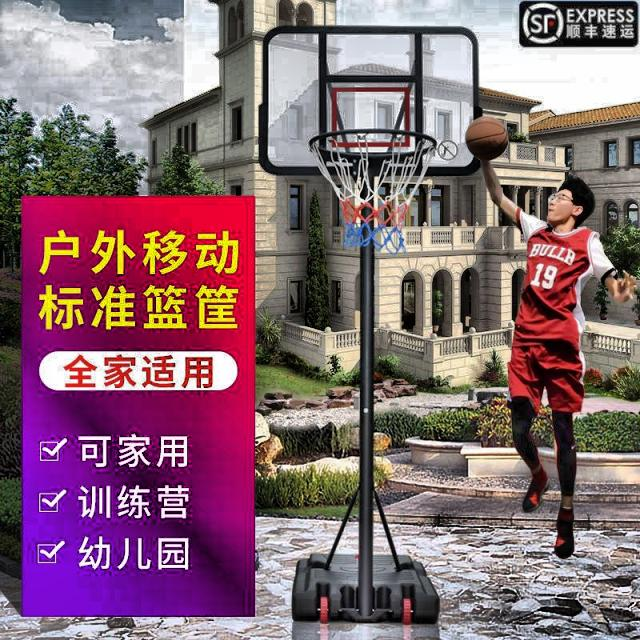board: (466, 116, 508, 161)
rim: (312, 127, 438, 255)
